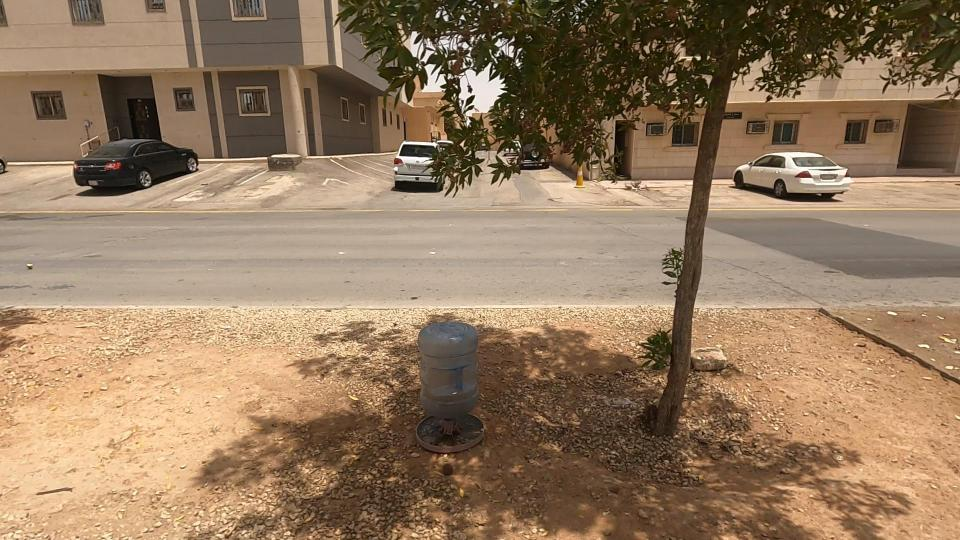GARBAGE: (342, 218, 550, 540)
